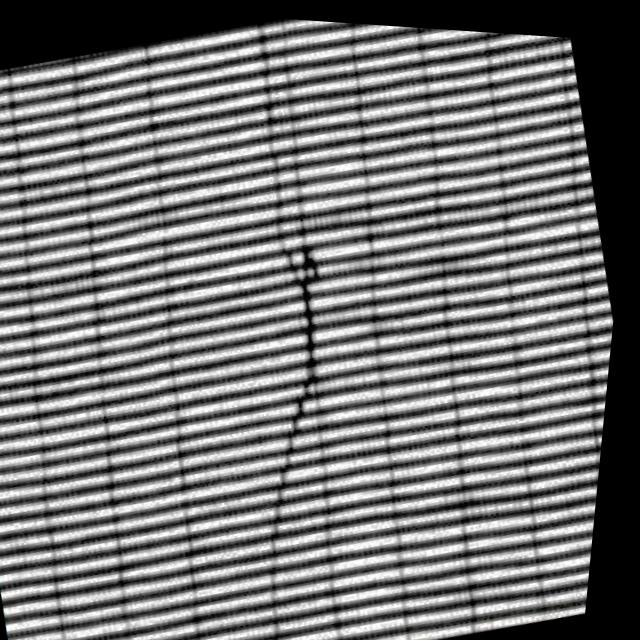Stitch: (189, 195, 412, 549)
